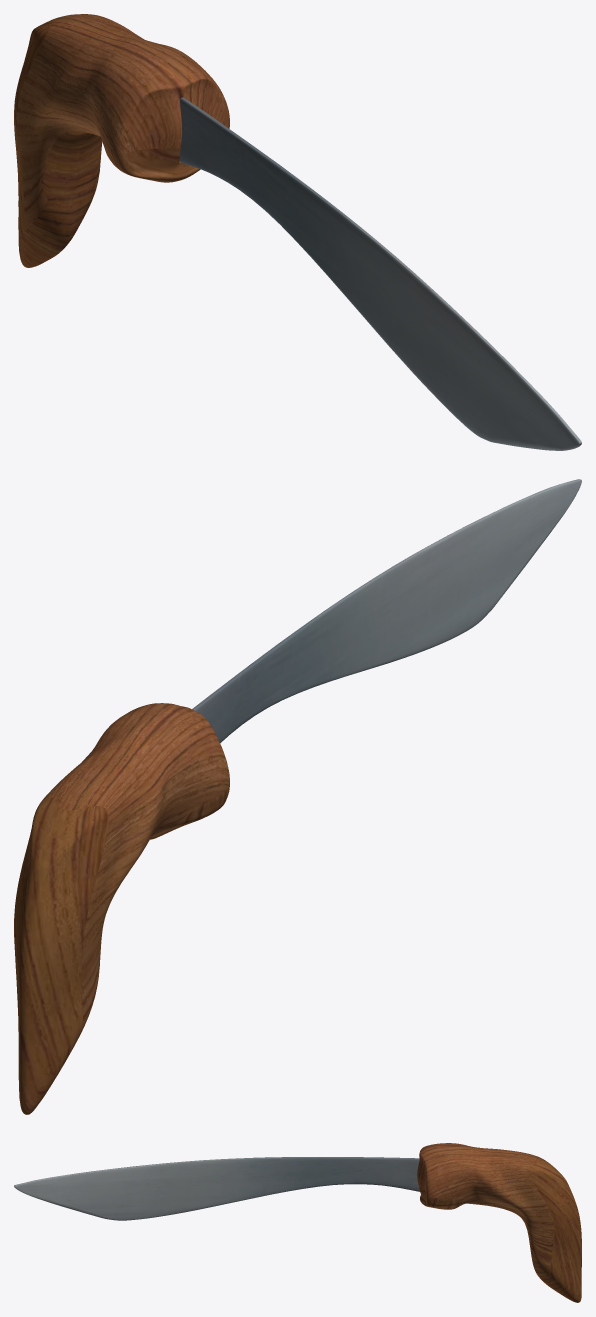
File: badik.glb
3 views of the same model, one above another, from view 1: azimuth 30°, elevation 25°; view 2: azimuth 150°, elevation 25°; view 3: azimuth 270°, elevation 25° (orthographic). The views are drawn at different scales.
Visible parts, largest first — view 1: Object_2; view 2: Object_2; view 3: Object_2.
Boxes of the visible parts, box(x1,y1,x2,y2) form: Object_2: box(14, 14, 581, 450); Object_2: box(14, 479, 581, 1114); Object_2: box(14, 1143, 581, 1302).
Size of the model in its own units: 1.24 by 3.16 by 10.44.
1 material, 1 textured.
